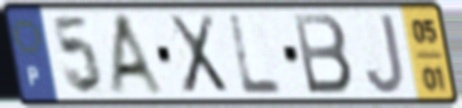5: (48, 13, 104, 97)
A: (106, 11, 170, 99)
B: (290, 11, 356, 97)
J: (363, 11, 407, 98)
L: (226, 11, 287, 97)
X: (165, 12, 231, 97)
